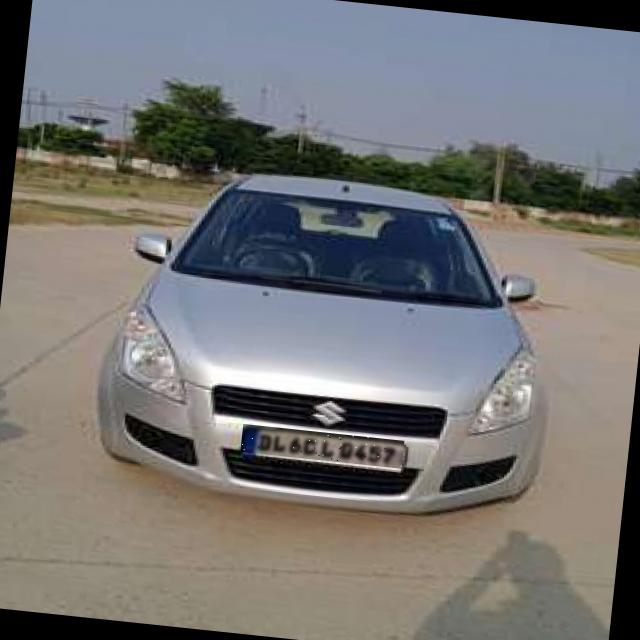Plate: (241, 425, 405, 470)
